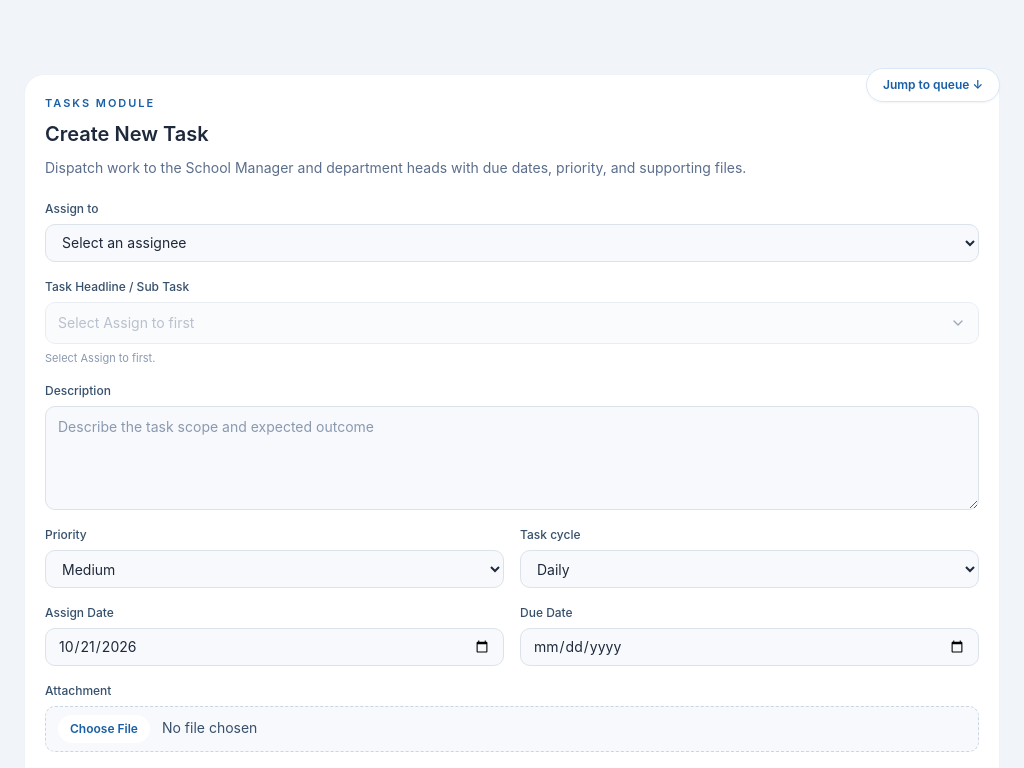
Scenario: Assignment Queue › lets the Chairman add and save a subtask inside the dropdown
The image size is (1024, 768).
Select "HR Head - Anita" in the dropdown labelled "Assign to" at (512, 242), box [45,224,979,262]
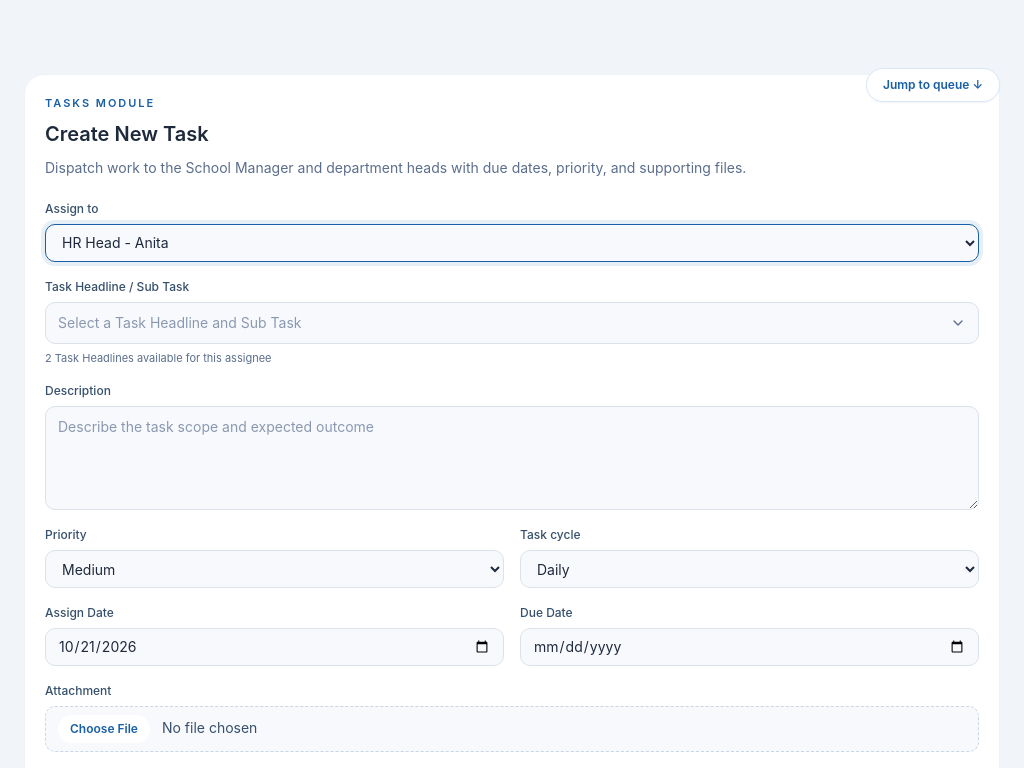
Click the button "Select a Task Headline and Sub Task".
click(180, 322)  # box [45,302,979,344]
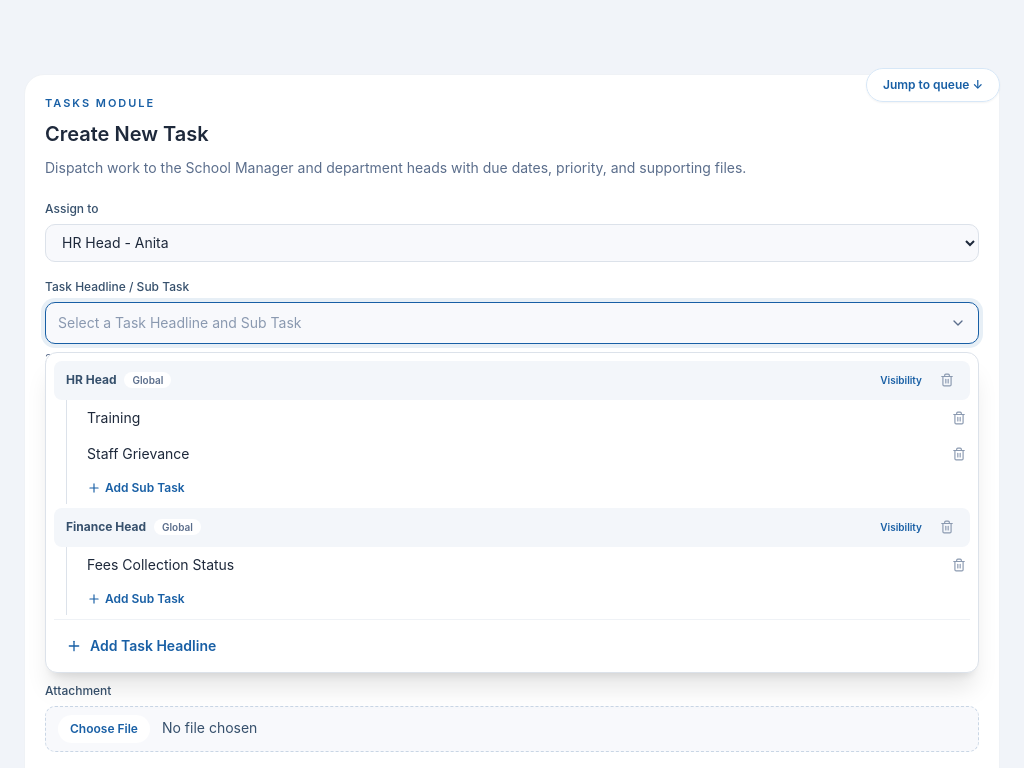
Click the button with aria-label "Add Sub Task to HR Head".
click(136, 488)  # box [75,472,197,504]
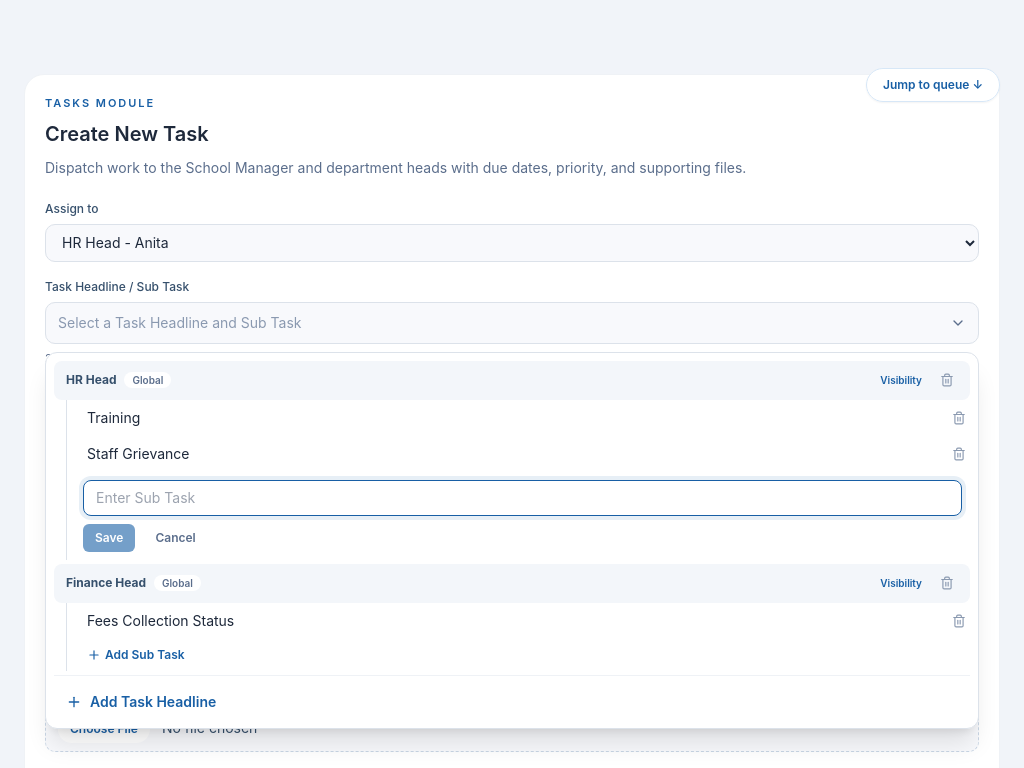
Type "New HR Report" into the field named "New Sub Task for HR Head".
click(522, 498); type("New HR Report")  # box [83,480,962,516]
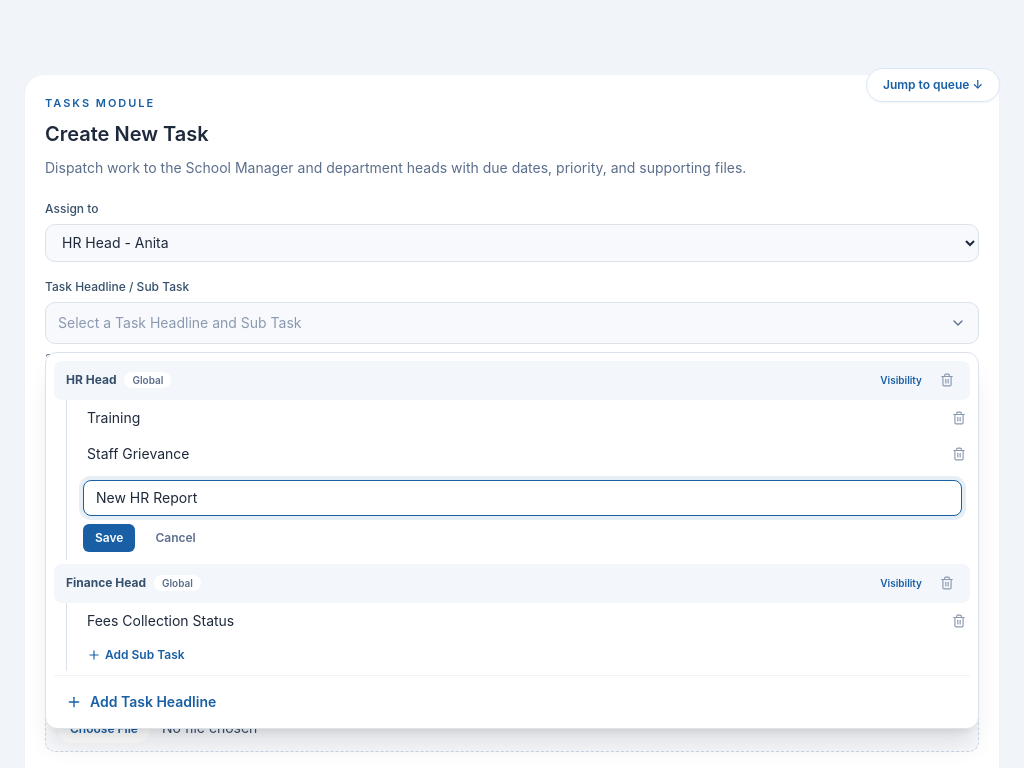
Click the button "Save".
click(109, 538)  # box [83,524,135,552]
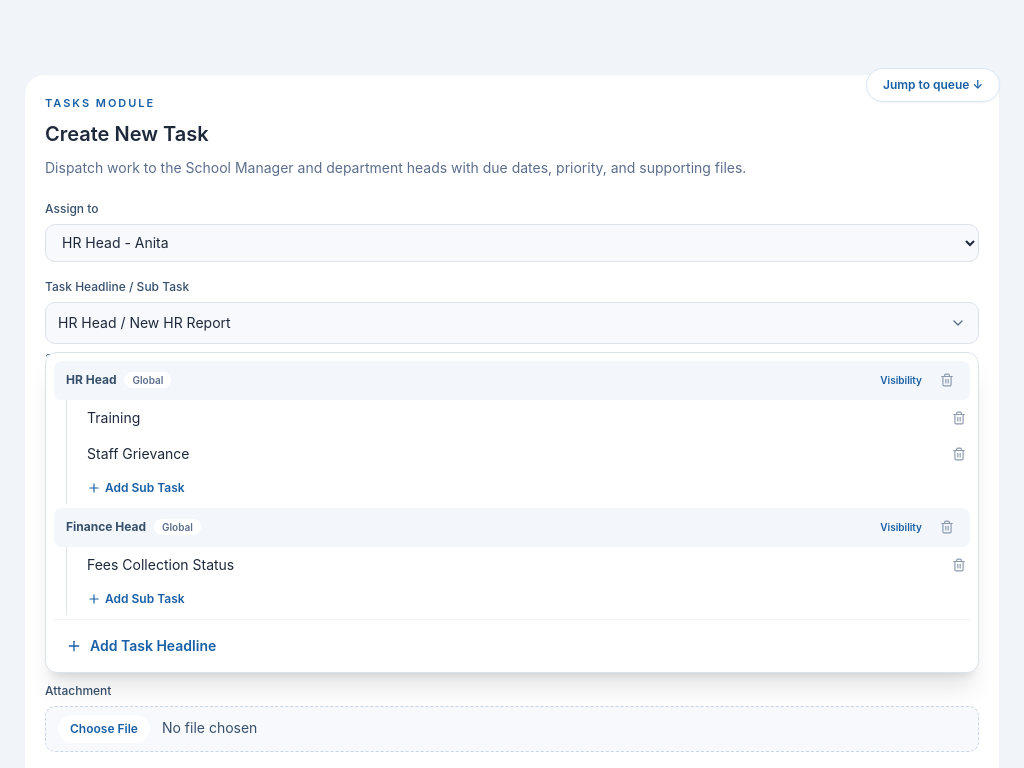
Expected: the button "HR Head / New HR Report" is shown, [45,302,979,344]
